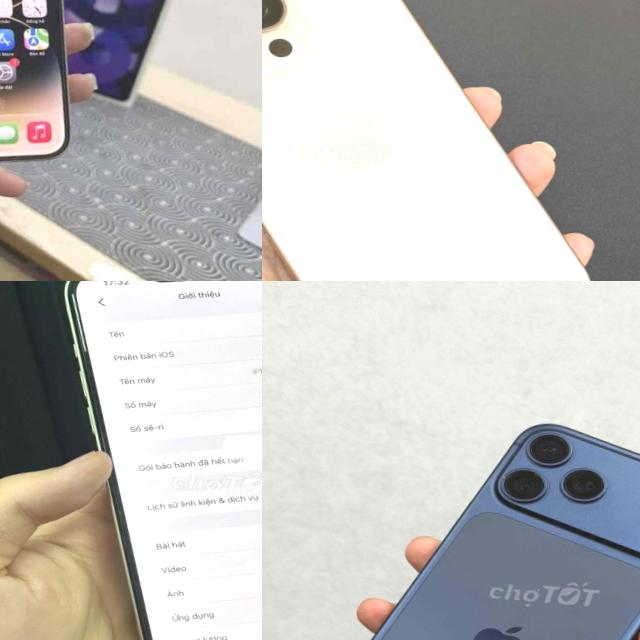gen_14: (27, 281, 262, 640), (0, 0, 101, 188)
gen_16: (262, 0, 588, 281)
gen_17: (314, 395, 640, 640)
